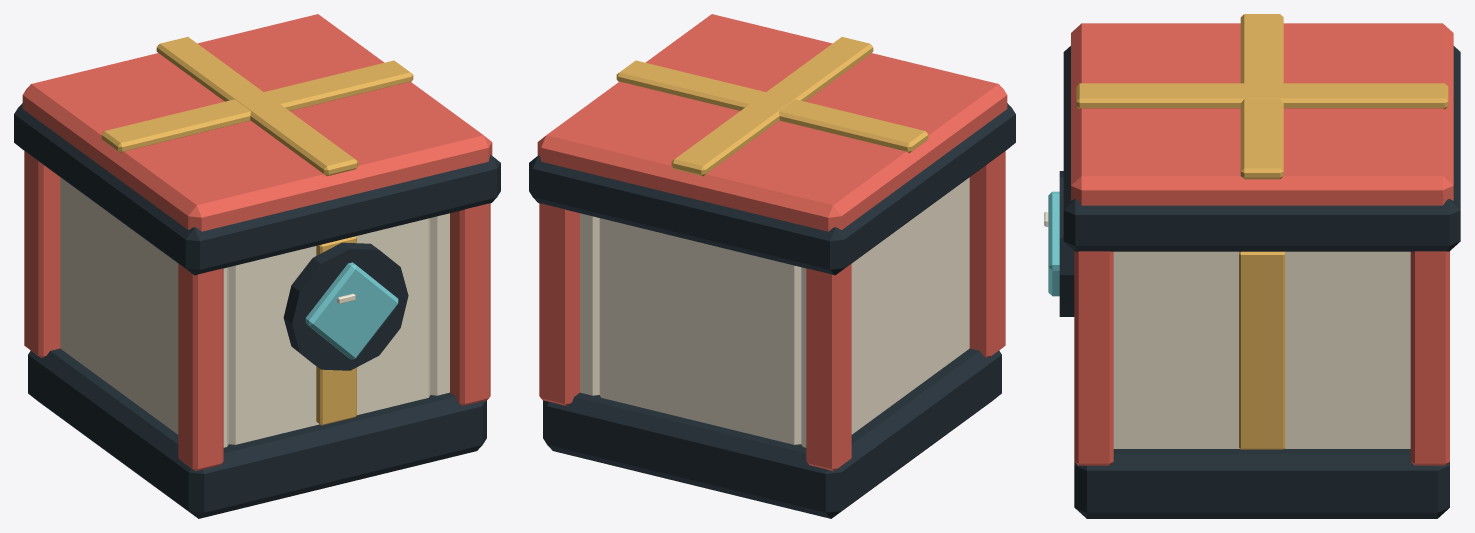
Rendered from gift_crate_reveal_v1.glb.
3 renders of one model, left to right at view 1: azimuth 30°, elevation 25°; view 2: azimuth 150°, elevation 25°; view 3: azimuth 270°, elevation 25°, orthographic. The views are drawn at different scales.
Visible parts, largest first — view 1: Crate body / hollow, Crate lid / hinged; view 2: Crate body / hollow, Crate lid / hinged; view 3: Crate body / hollow, Crate lid / hinged.
Part boxes in pixels (box(x1,y1,x2,y2)): Crate body / hollow: box(24, 151, 490, 518); Crate lid / hinged: box(14, 14, 500, 275); Crate body / hollow: box(539, 151, 1005, 518); Crate lid / hinged: box(529, 14, 1015, 275); Crate body / hollow: box(1044, 171, 1449, 518); Crate lid / hinged: box(1063, 14, 1460, 251).
Size of the model in its own units: 1.11 by 1.09 by 1.16.
